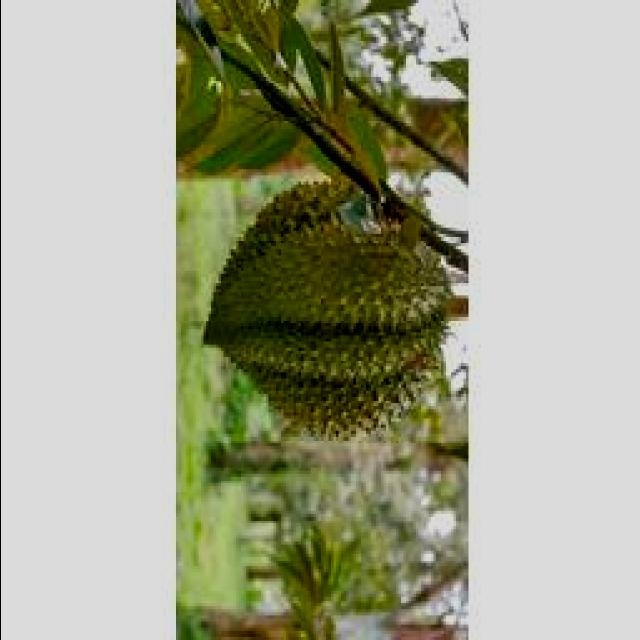agrume: (200, 175, 458, 449)
